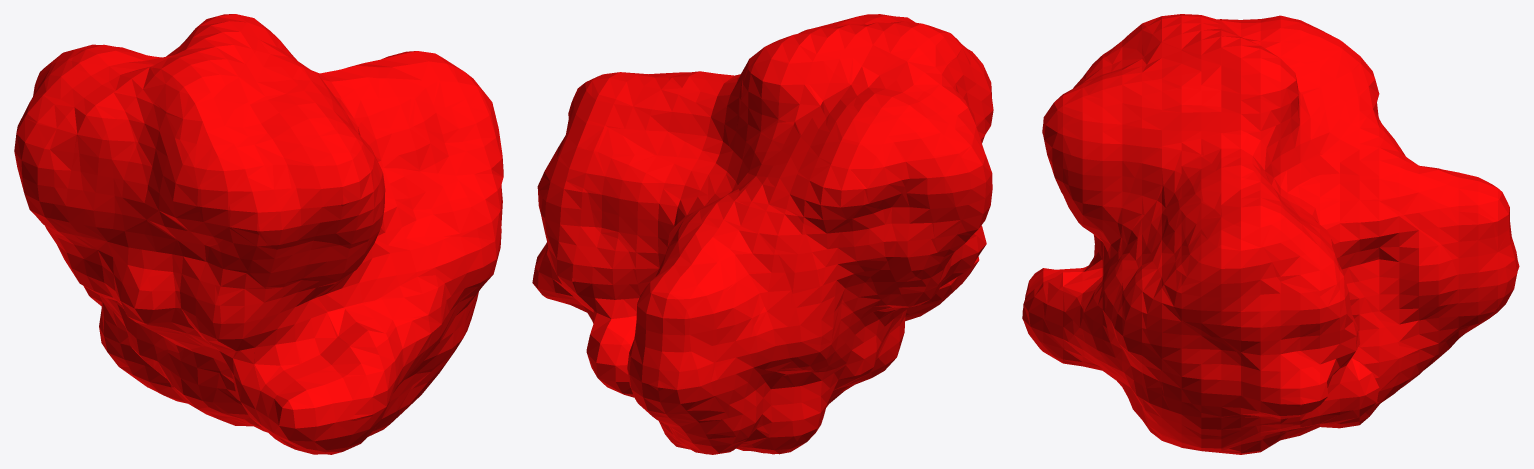
File: asnB_coarse.dae
3 views of the same model, side by side, from view 1: azimuth 30°, elevation 25°; view 2: azimuth 150°, elevation 25°; view 3: azimuth 270°, elevation 25° (orthographic). The views are drawn at different scales.
Visible parts, largest first — view 1: asnB; view 2: asnB; view 3: asnB.
Part boxes in pixels (x1=…): asnB: x1=14, y1=14, x2=503, y2=454; asnB: x1=532, y1=14, x2=993, y2=454; asnB: x1=1022, y1=14, x2=1519, y2=454.
Size of the model in its own units: 68.1 by 61.25 by 74.69.
